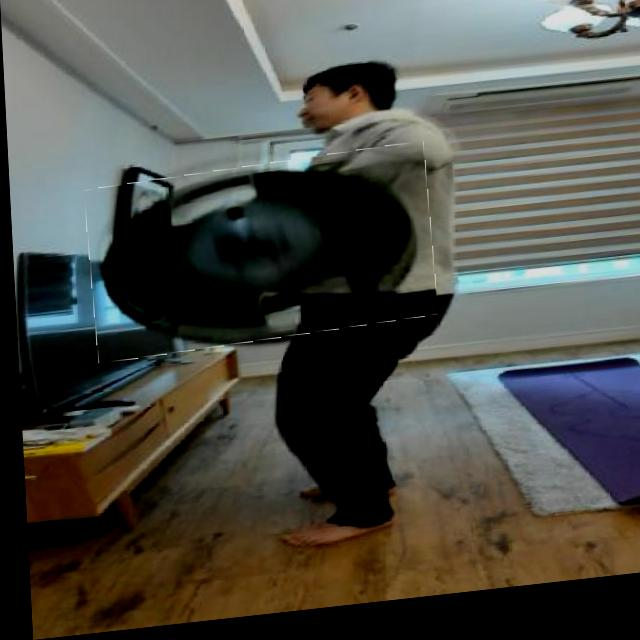barbell: (85, 155, 434, 364)
